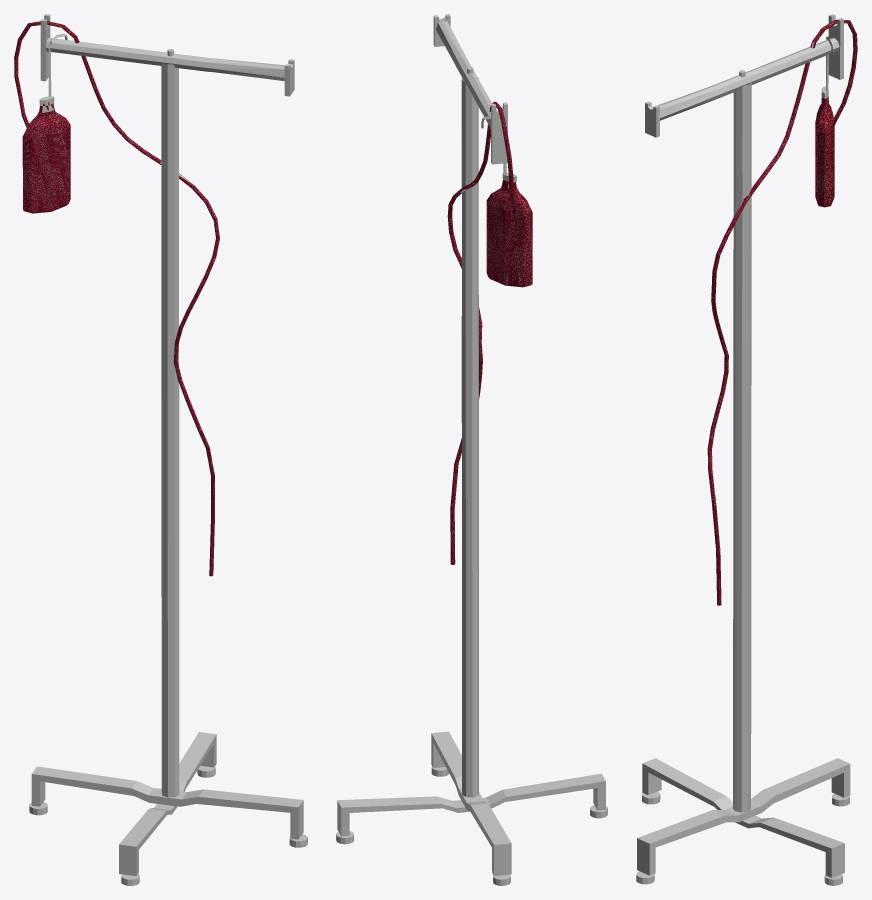
Rendered from Blood_drip.fbx.
3 renders of one model, left to right at view 1: azimuth 30°, elevation 25°; view 2: azimuth 150°, elevation 25°; view 3: azimuth 270°, elevation 25°, orthographic. The views are drawn at different scales.
Parts seen in each view (by area): view 1: Group1; view 2: Group1; view 3: Group1.
Part boxes in pixels (bbox=[...]): Group1: bbox=[14, 14, 307, 885]; Group1: bbox=[336, 14, 607, 885]; Group1: bbox=[636, 14, 857, 885].
Bounding box in the file's own units: 0.361 × 1.39 × 0.3543.
